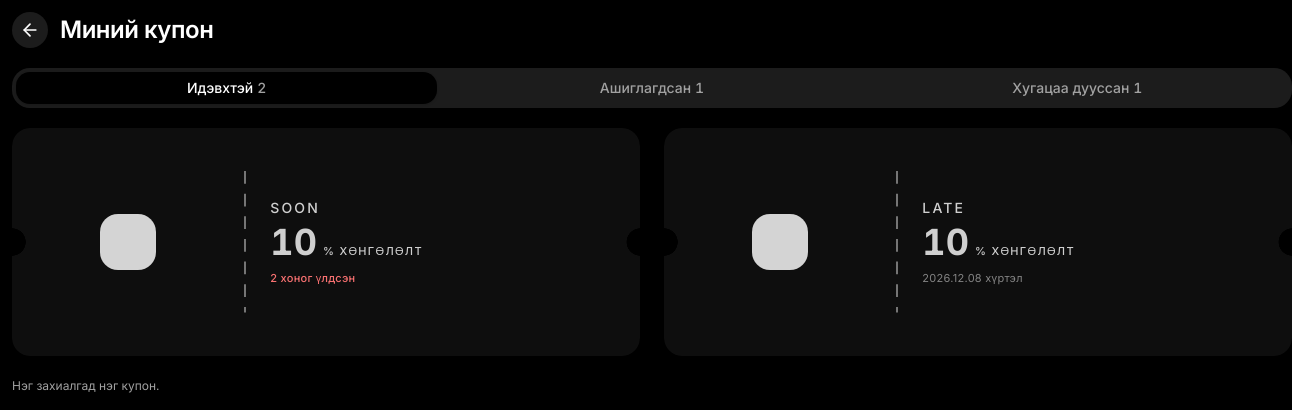
Scenario: CouponWallet › keeps expired coupons in their own tab
What coordinates should you click on to do the following:
click the tab "Хугацаа дууссан1"
I would click on:
 (1077, 88)
Its box is [867, 72, 1288, 104].
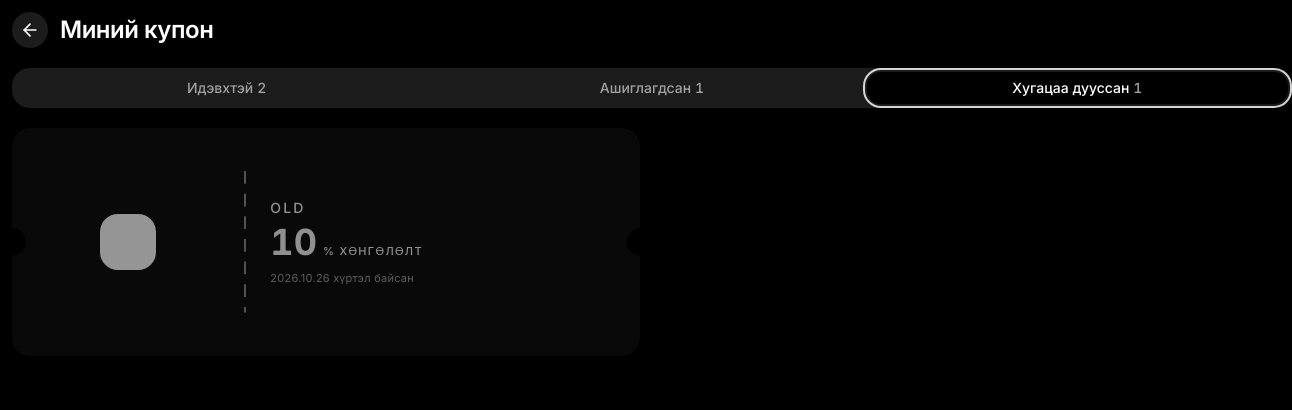
Check: the text "OLD" is shown, box [270, 199, 306, 216]
Check: the text "SOON" is gone
